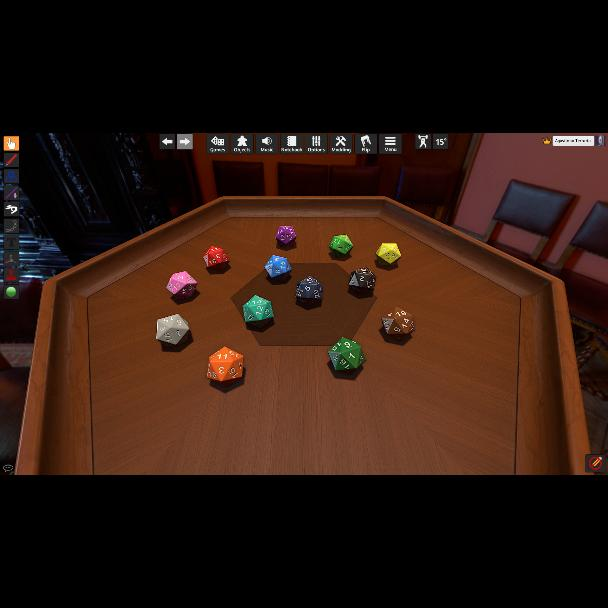d20: (206, 346, 242, 382), (323, 339, 358, 373), (382, 308, 414, 340), (156, 314, 190, 344), (242, 296, 274, 326), (166, 272, 198, 300), (346, 267, 373, 295), (264, 255, 290, 281), (203, 245, 228, 269), (295, 277, 319, 301), (376, 243, 401, 265), (328, 235, 350, 257), (276, 226, 296, 246)
